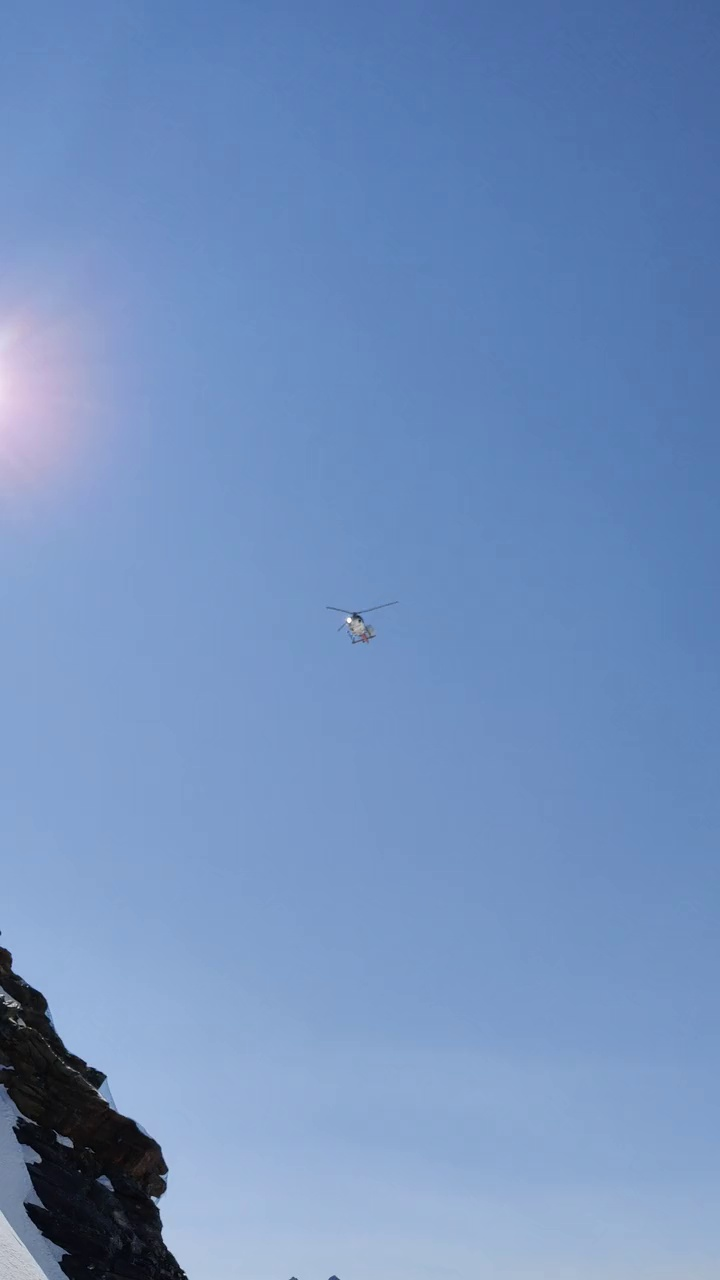heli: (323, 598, 400, 646)
